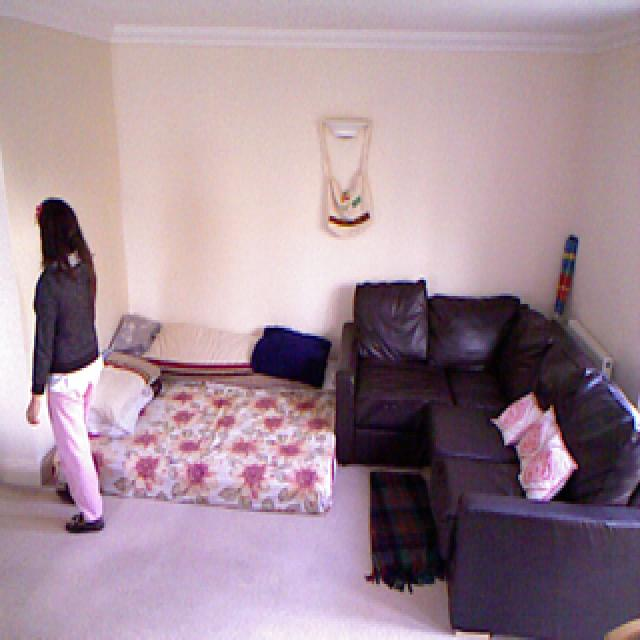standing: (32, 202, 107, 541)
